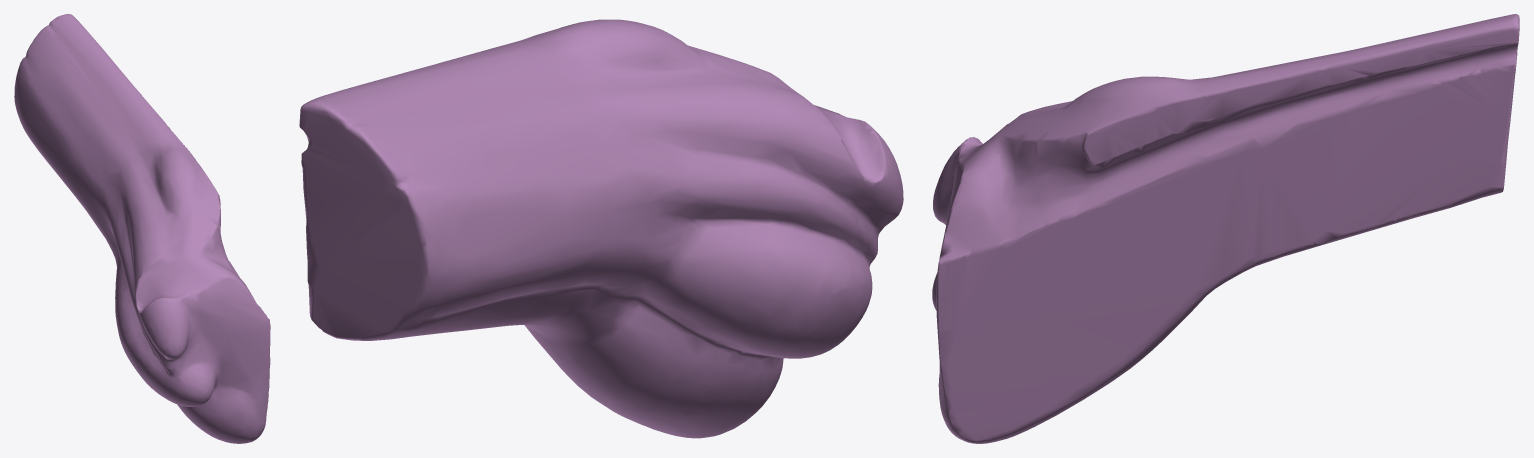
The picture shows the model from 3 angles, left to right: view 1: azimuth 30°, elevation 25°; view 2: azimuth 150°, elevation 25°; view 3: azimuth 270°, elevation 25°; orthographic projection. The views are drawn at different scales.
Parts seen in each view (by area): view 1: 右侧延髓; view 2: 右侧延髓; view 3: 右侧延髓.
Boxes of the visible parts, bbox=[...] form: 右侧延髓: bbox=[14, 14, 270, 443]; 右侧延髓: bbox=[299, 19, 903, 438]; 右侧延髓: bbox=[932, 14, 1519, 443].
Bounding box in the file's own units: 0.0191 × 0.0475 × 0.059.
